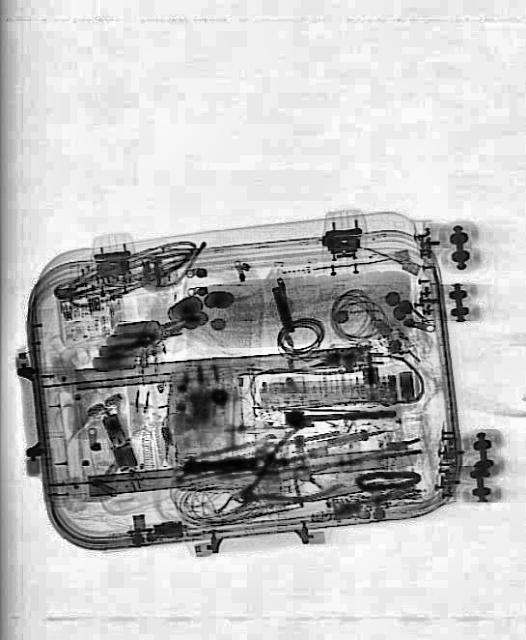Pliers: (216, 415, 344, 537)
